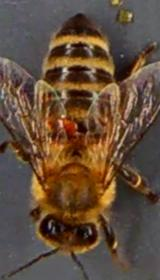varroa_mite: (59, 109, 82, 134)
